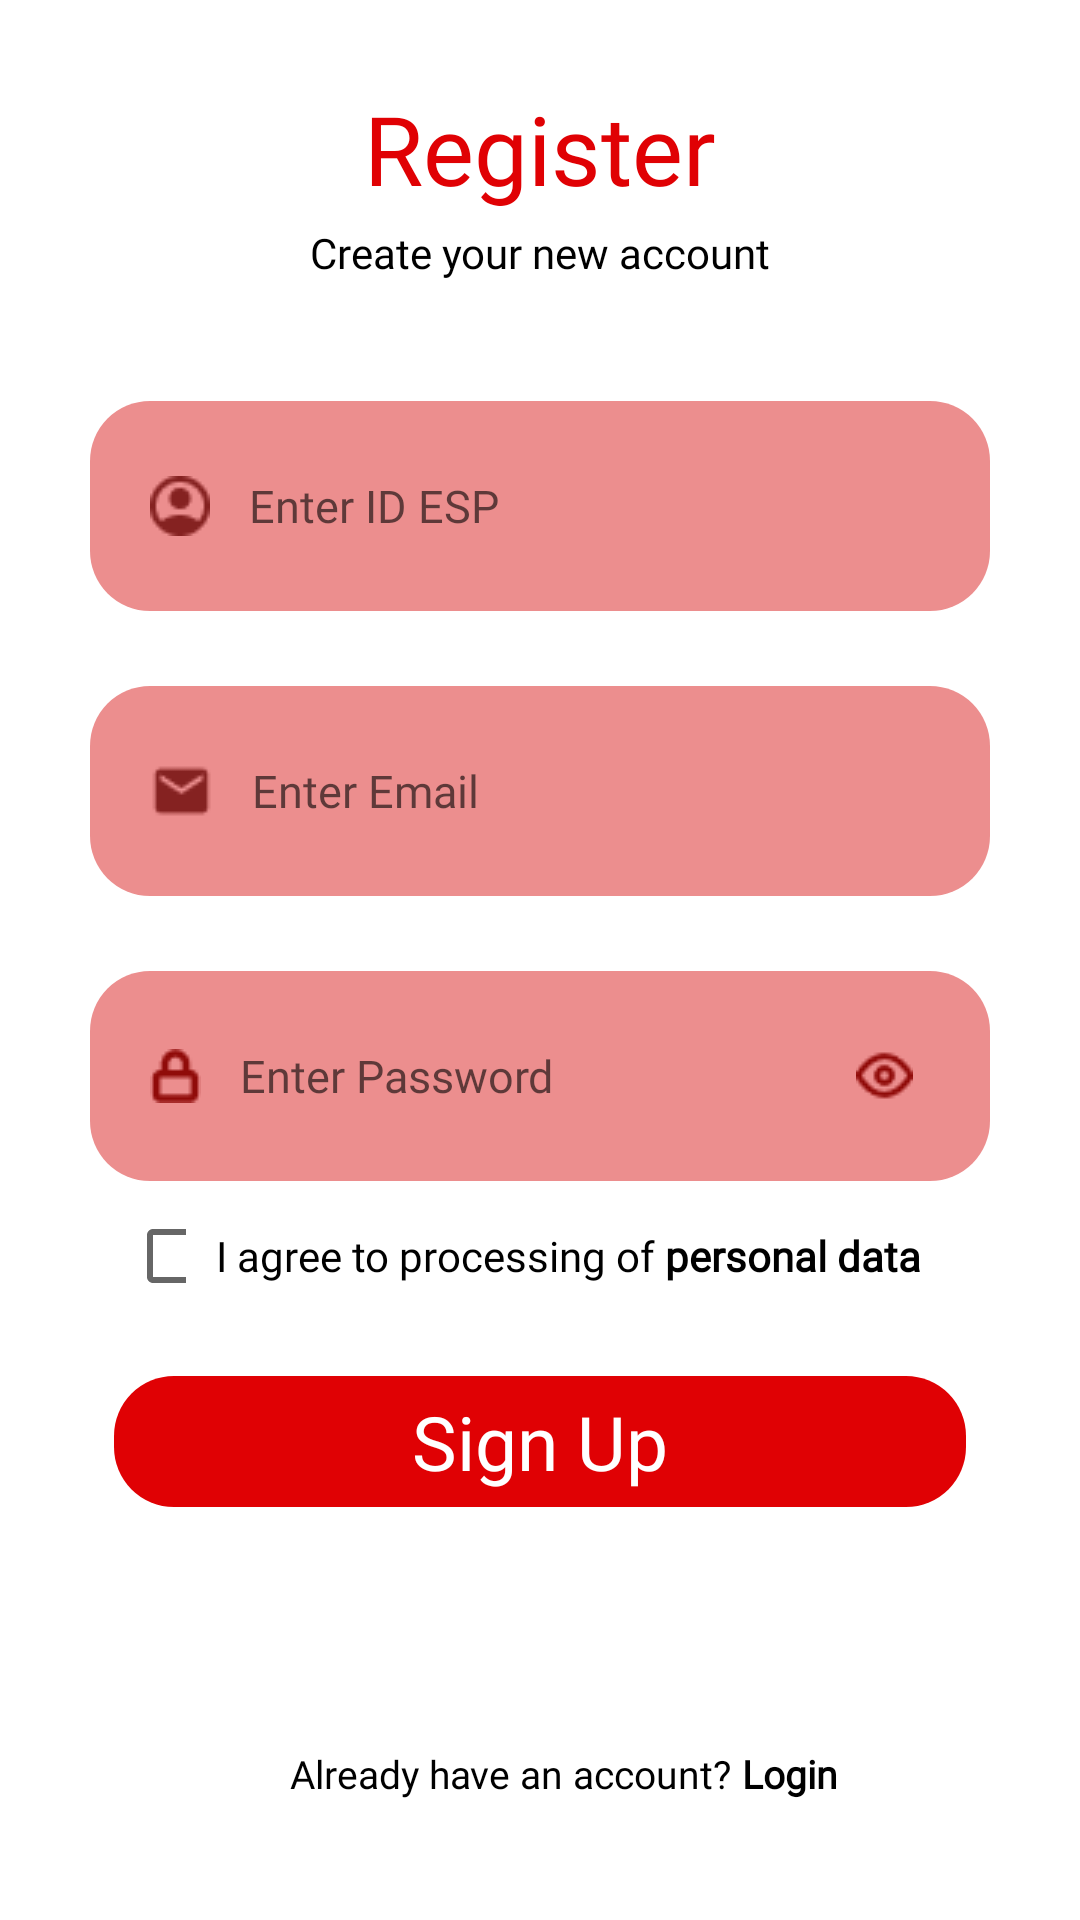

Named icons in this screenshot (1080×1920) and their centers, (x,y):
eye: (884,1075)
lock: (175,1076)
